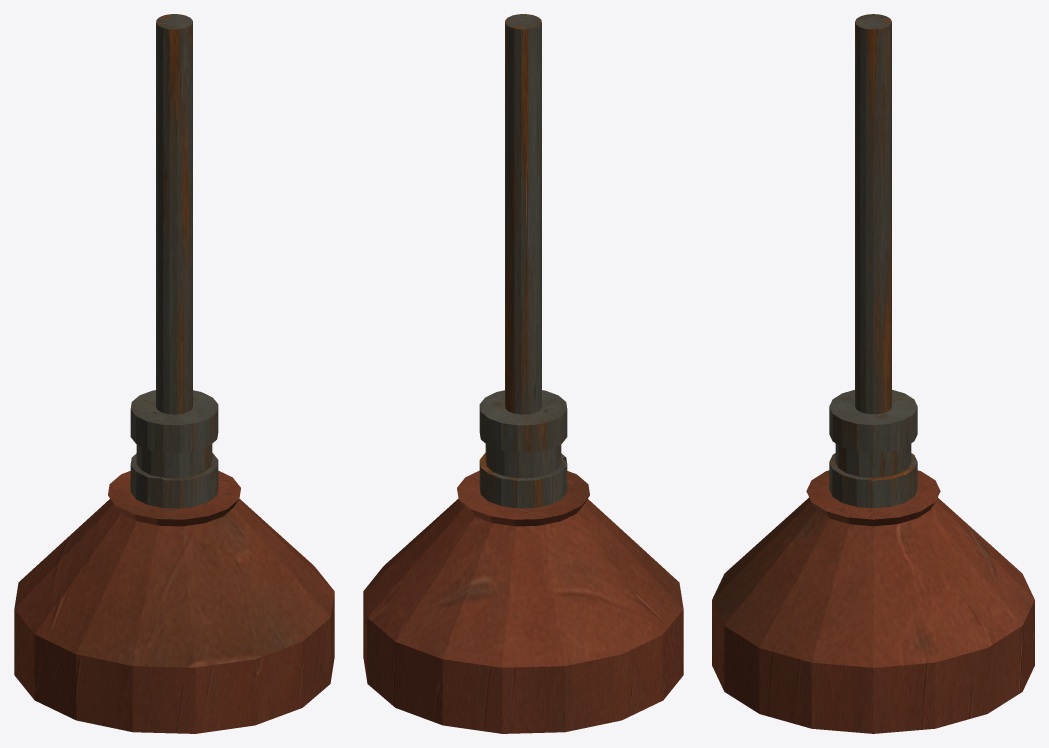
File: HangendeLamp-1.glb
3 views of the same model, side by side, from view 1: azimuth 30°, elevation 25°; view 2: azimuth 150°, elevation 25°; view 3: azimuth 270°, elevation 25° (orthographic).
Visible parts, largest first — view 1: LampHanging-1, PoleShort-1m-1; view 2: LampHanging-1, PoleShort-1m-1; view 3: LampHanging-1, PoleShort-1m-1.
Part boxes in pixels (left/top/right/bottom): LampHanging-1: left=14, top=470, right=334, bottom=733; PoleShort-1m-1: left=130, top=14, right=218, bottom=508; LampHanging-1: left=363, top=470, right=683, bottom=733; PoleShort-1m-1: left=479, top=14, right=567, bottom=508; LampHanging-1: left=712, top=470, right=1034, bottom=733; PoleShort-1m-1: left=829, top=14, right=917, bottom=508.
Size of the model in its own units: 0.8539 by 1.88 by 0.8539.
1 material, 1 textured.
